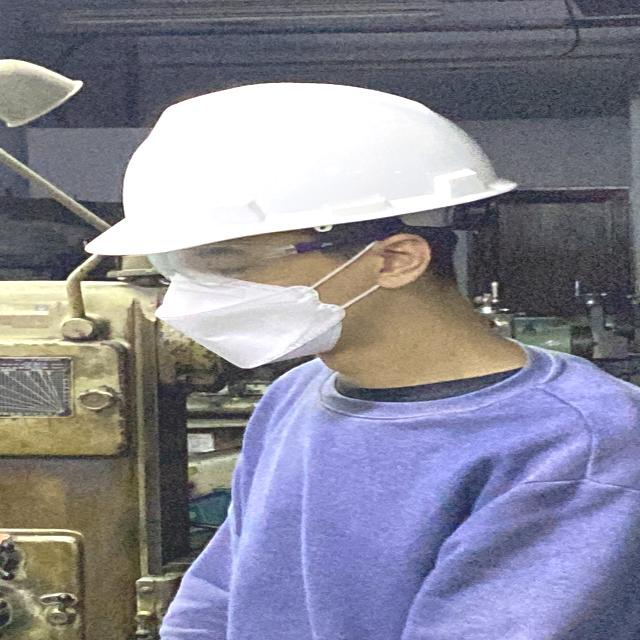face_mask: (128, 226, 378, 368)
glasses: (138, 234, 360, 286)
head_helmet: (80, 75, 520, 257)
